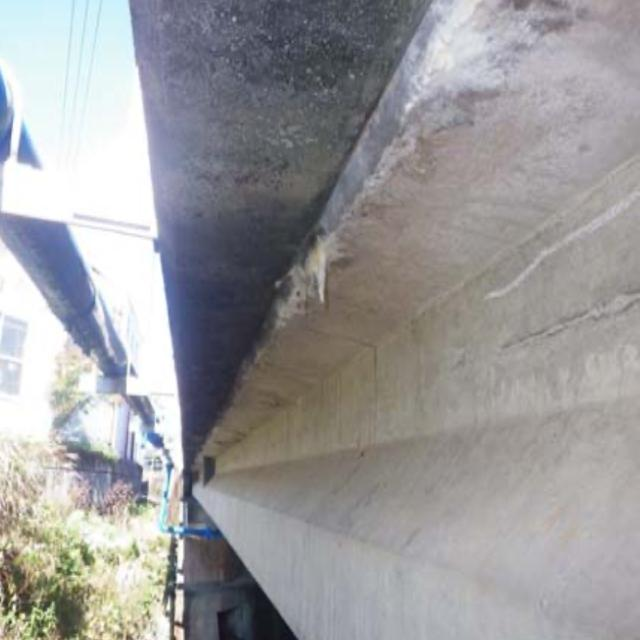freelime: (273, 220, 358, 340)
